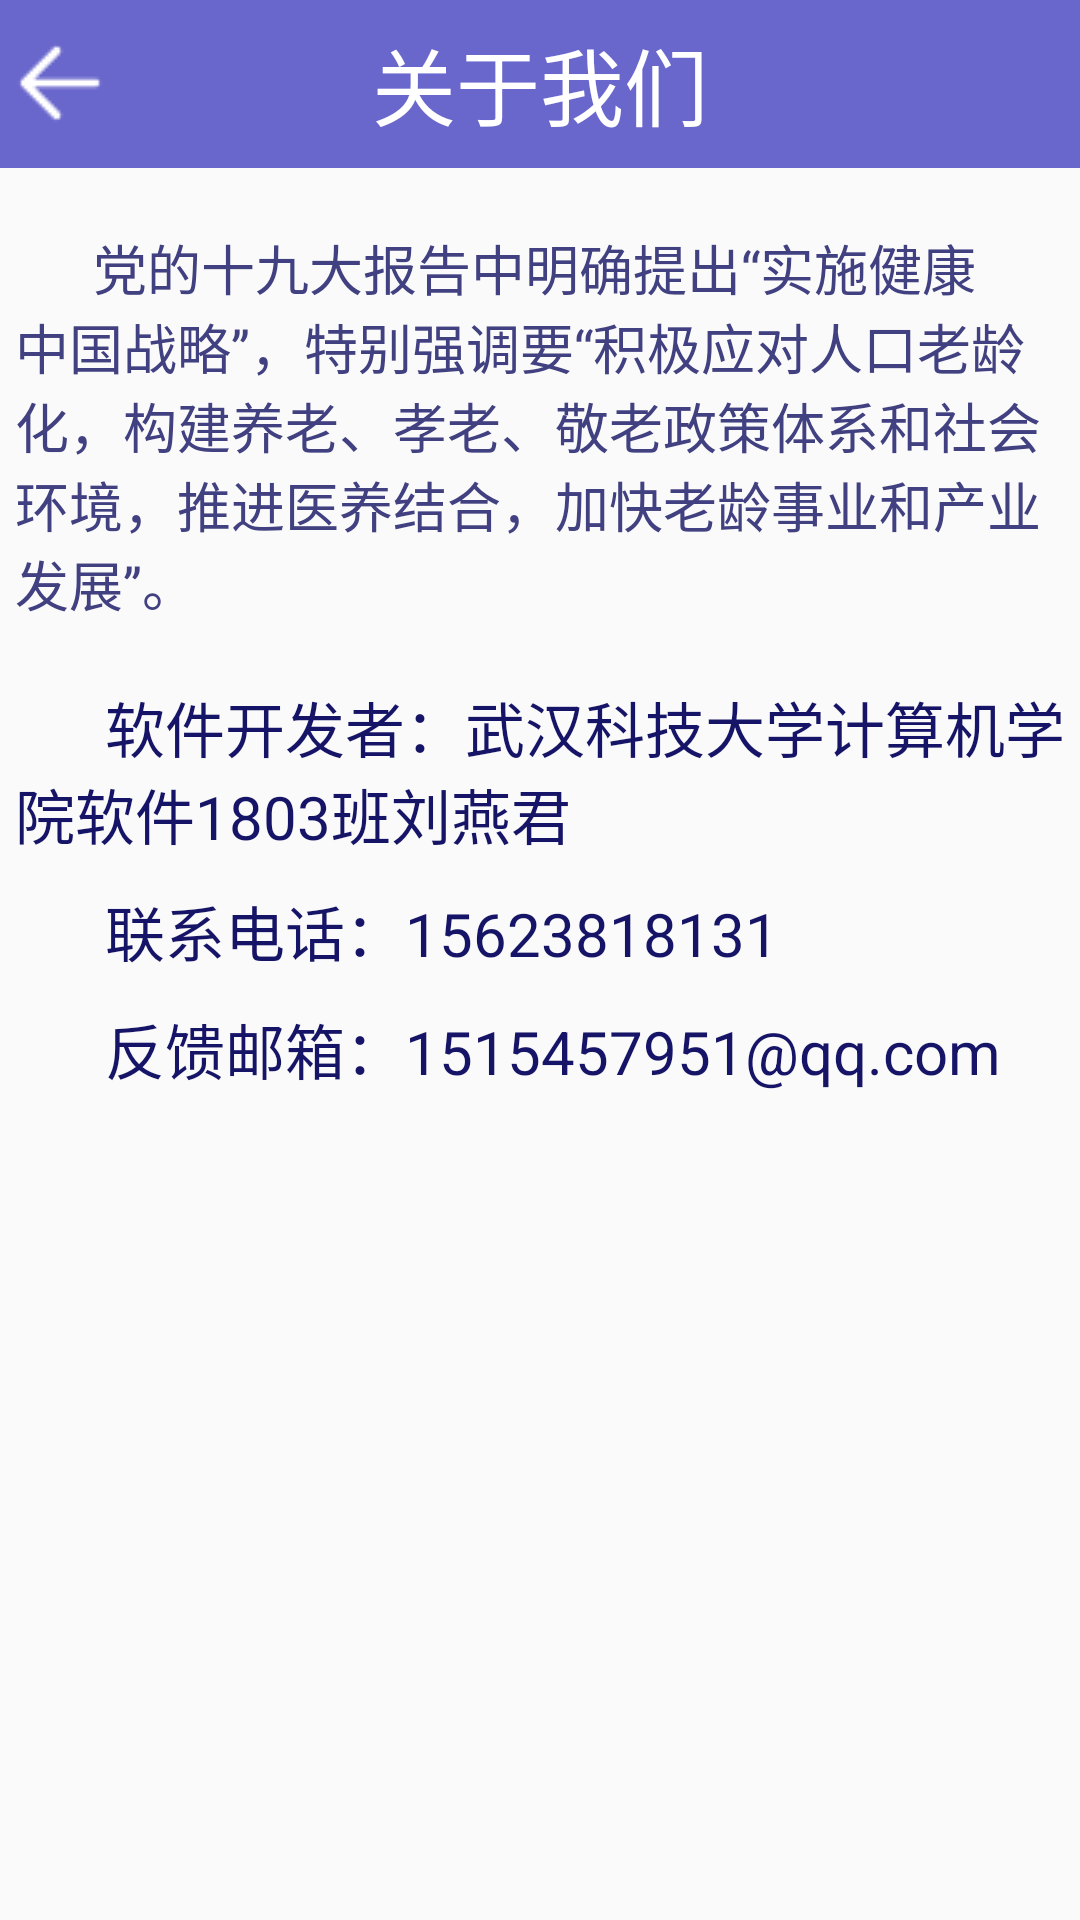

Icons on this 1080w x 1920h Android screen, each with its box as (x1,y1,x2,y2):
back: (20,46,100,120)
